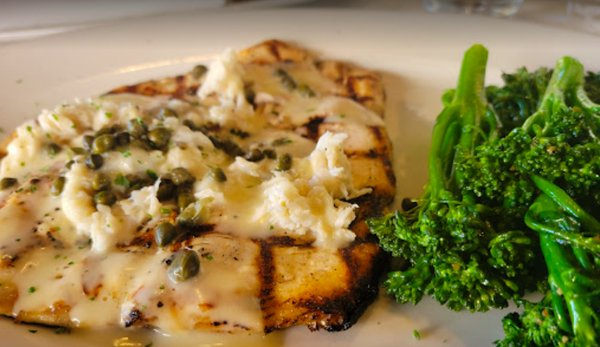curry: (366, 43, 600, 320)
